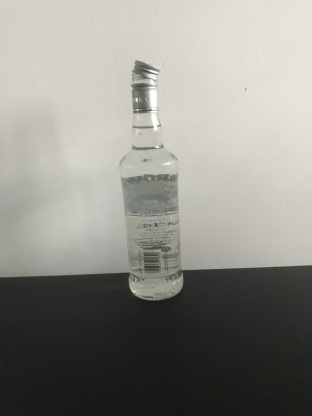nakretka: (129, 57, 161, 113)
